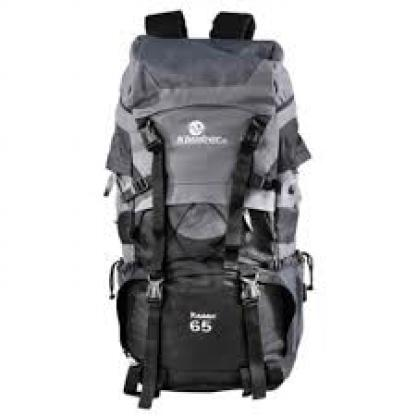morral: (83, 4, 340, 410)
